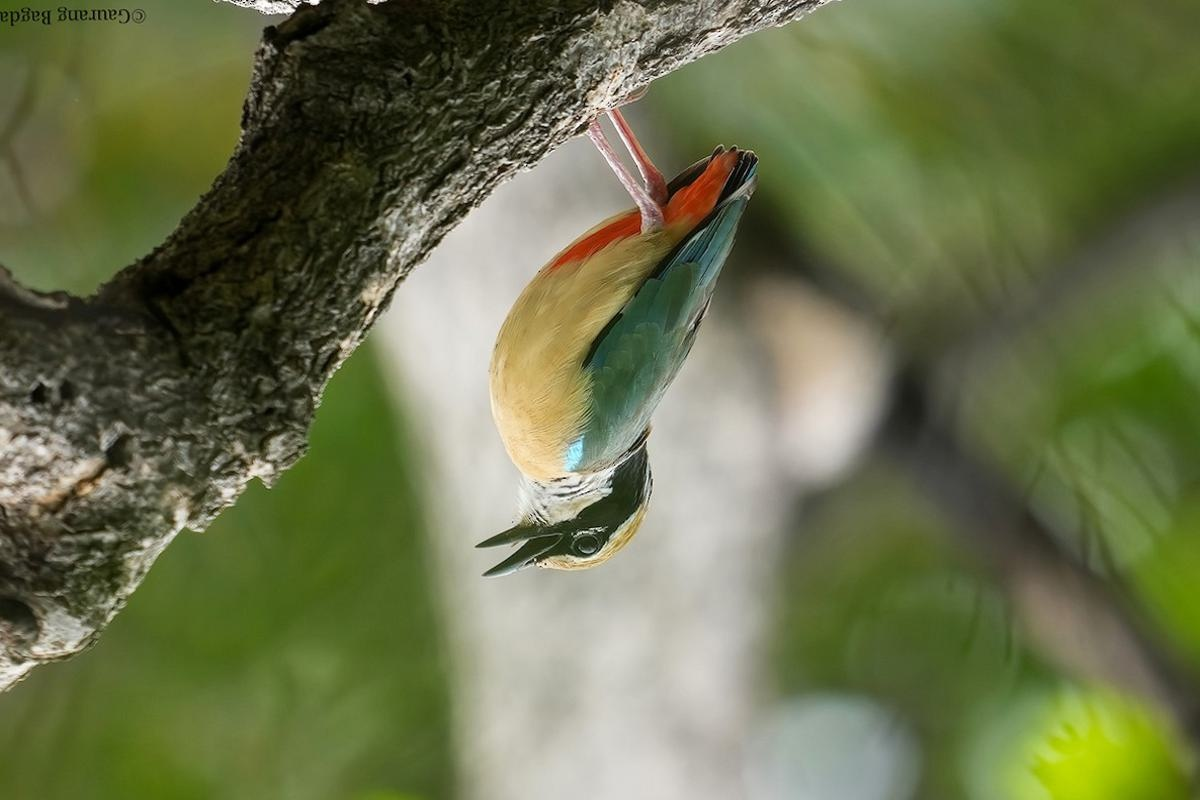pitta: (460, 96, 814, 625)
